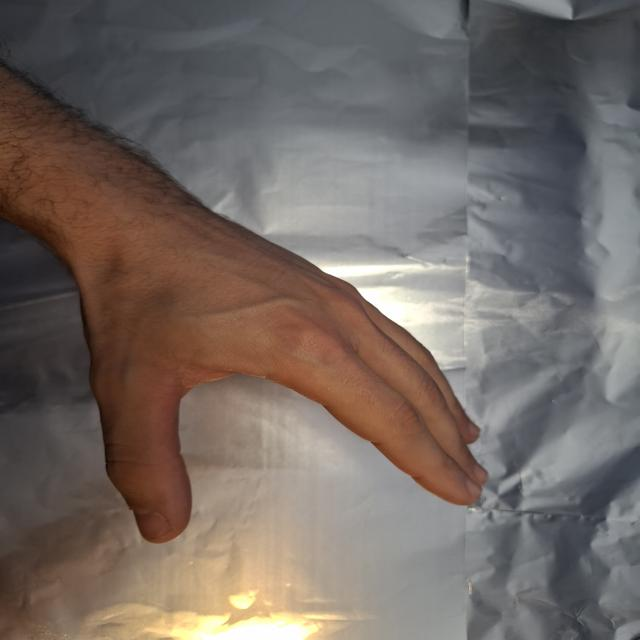glove_off: (28, 191, 492, 548)
